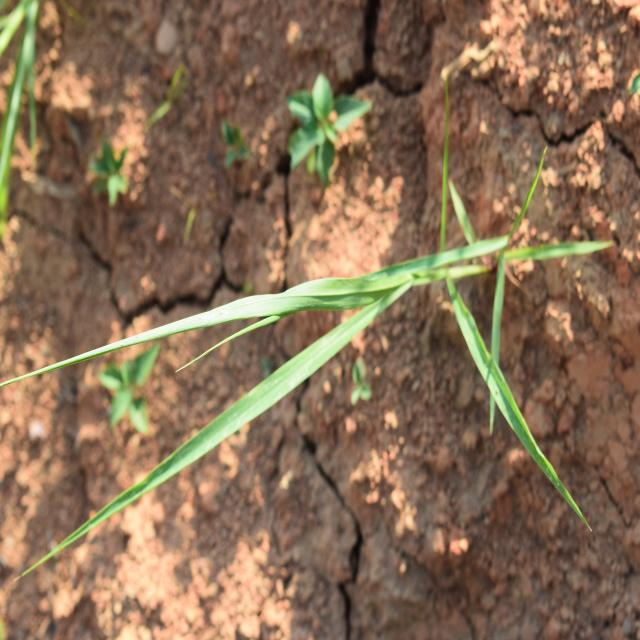green_foxtail: (49, 186, 607, 505)
